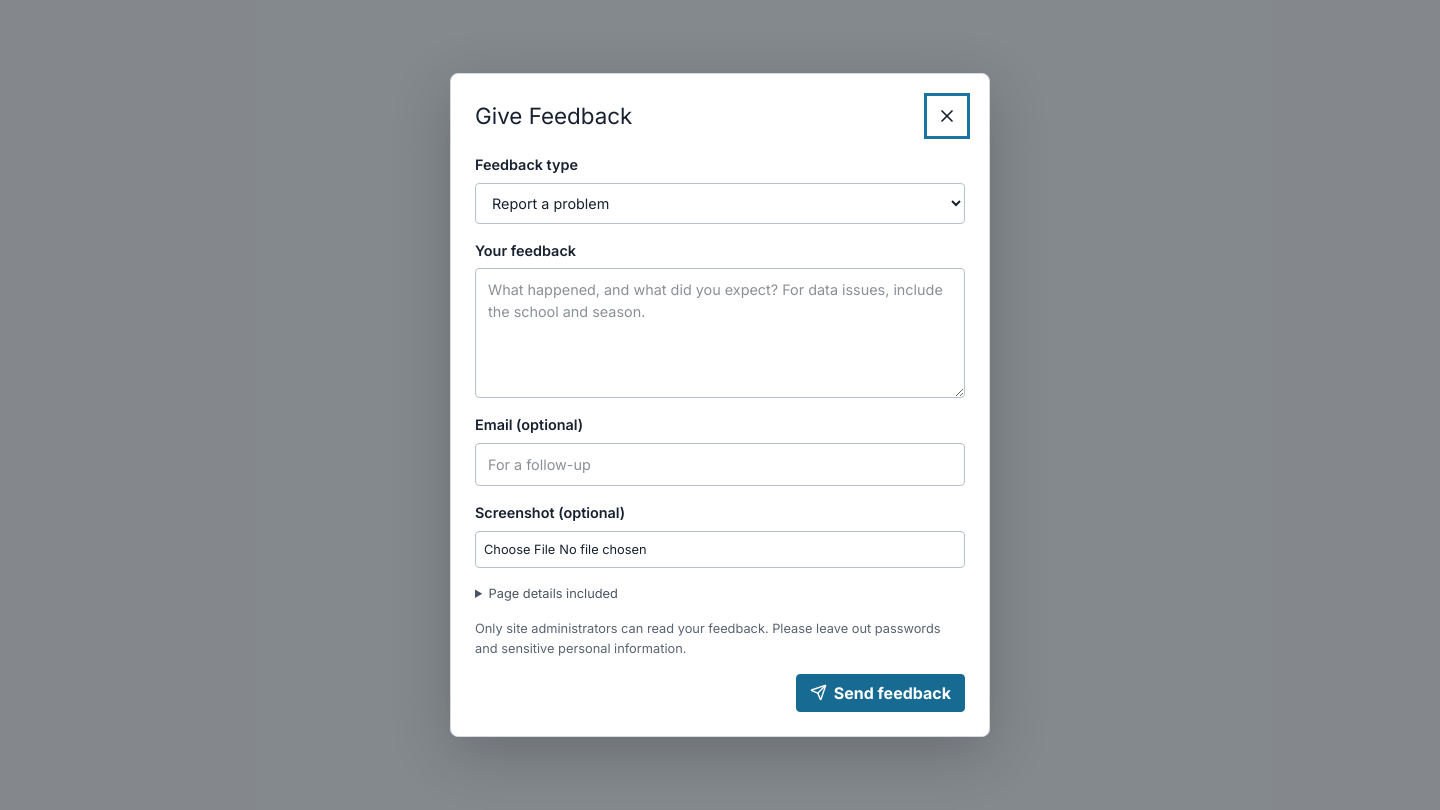
FeedbackDialog › retains the message on failure and allows retry
Step 1. Type "Please add a comparison between seasons." into the text box labelled "Your feedback" → [720, 333], box [475, 268, 965, 398]
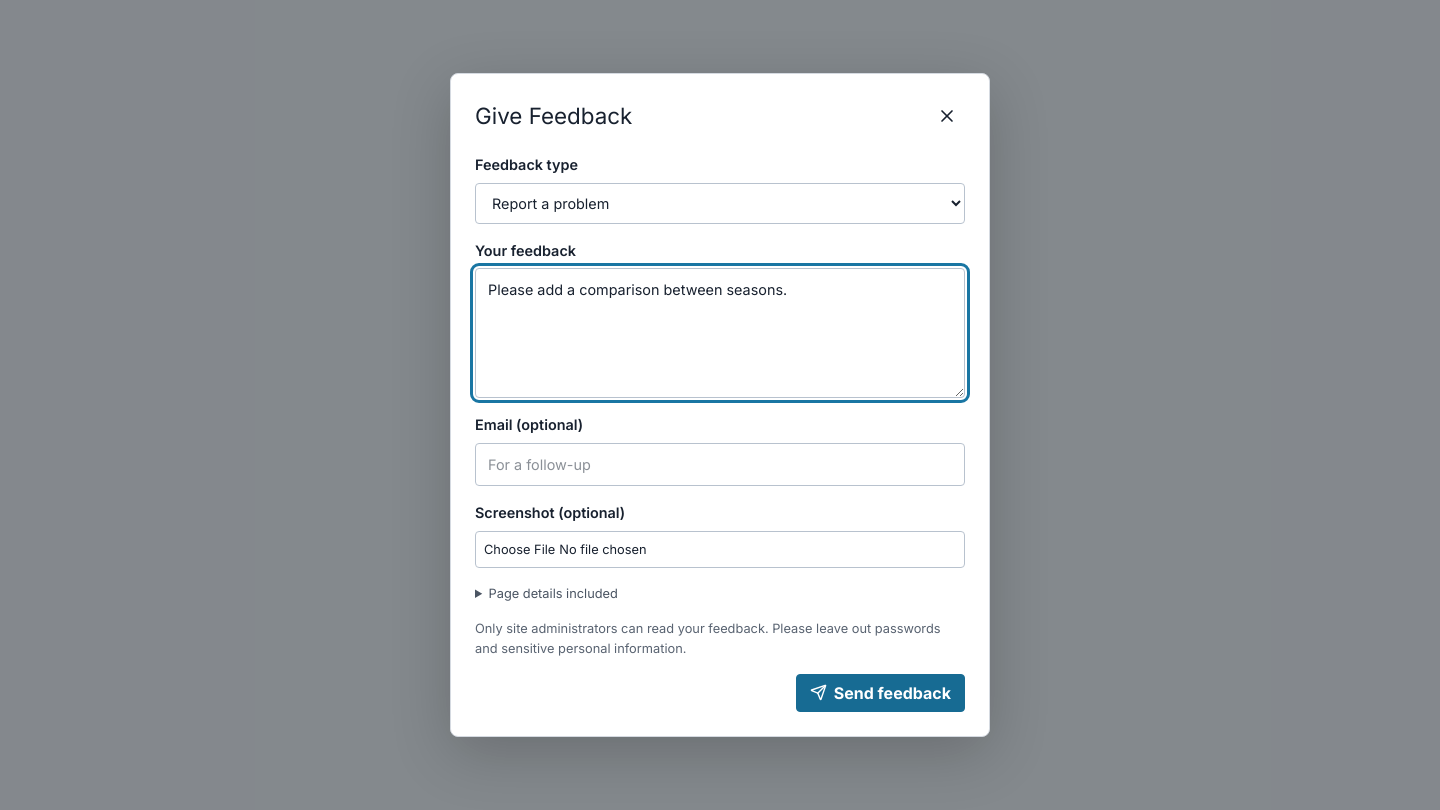
Step 2. Click the button "Send feedback" → [880, 693], box [796, 674, 965, 712]
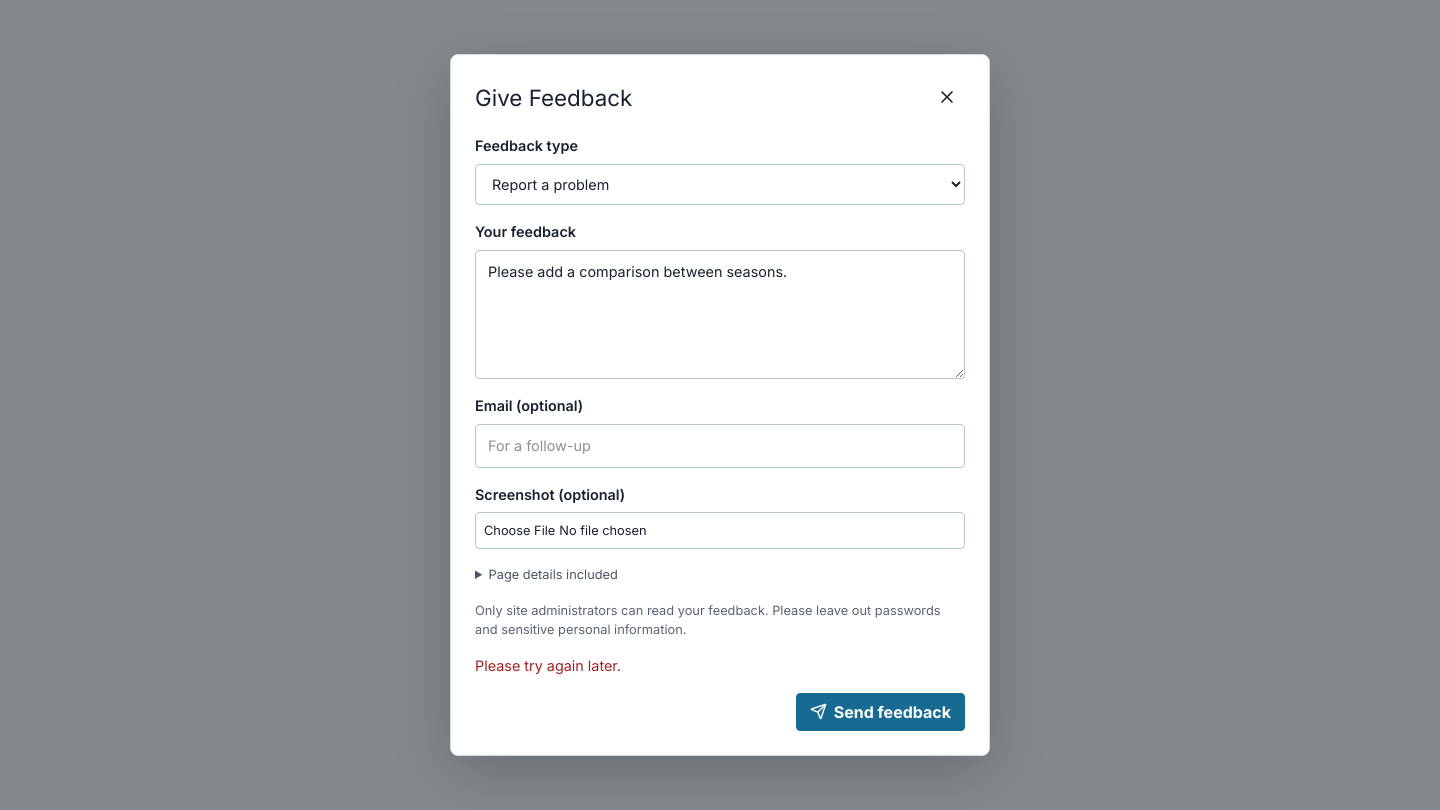
Check: the button "Send feedback" is enabled, box [796, 693, 965, 731]
Check: the message reads "Please try again later.", box [475, 657, 621, 674]
